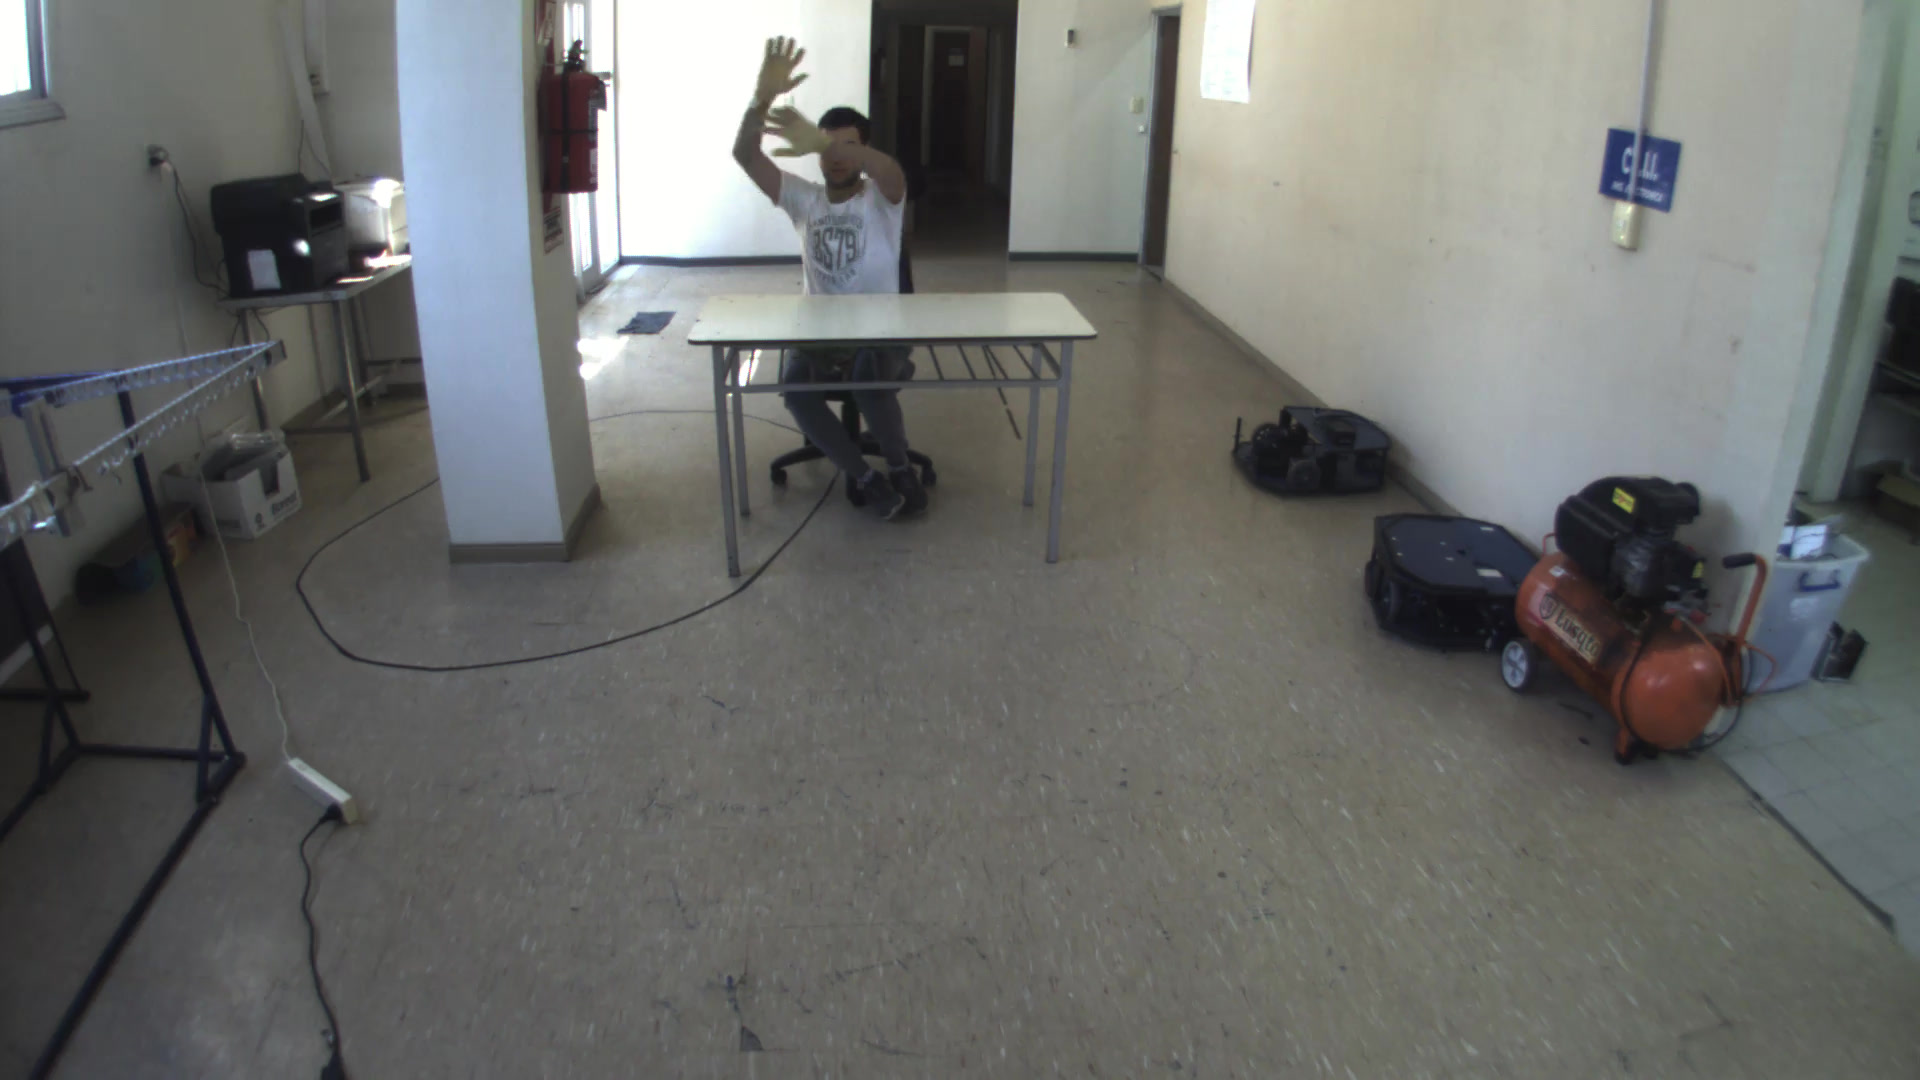hand: (741, 26, 825, 95), (760, 104, 835, 170)
